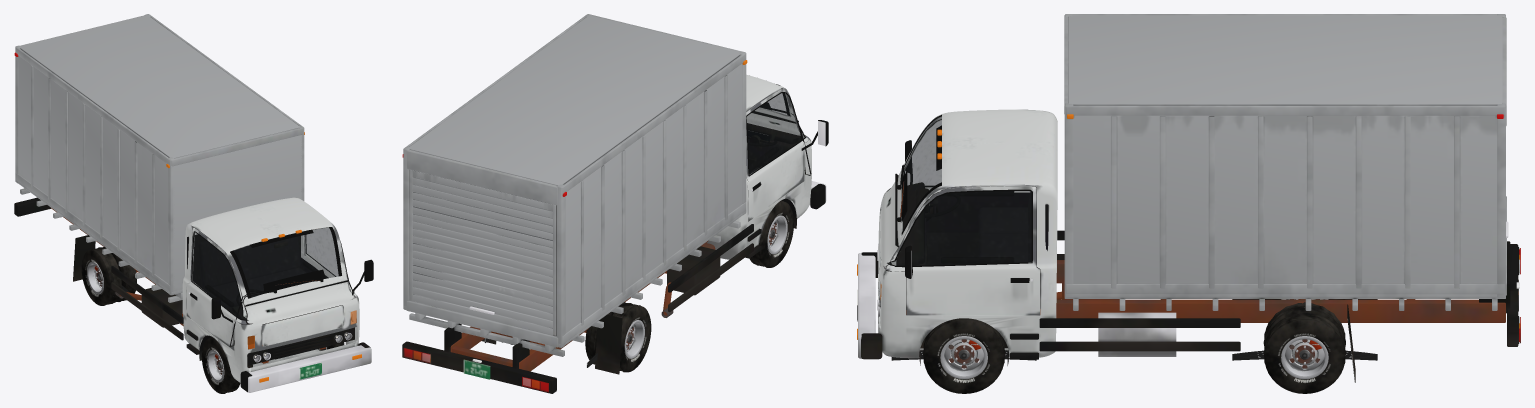
Rendered from kaiun.glb.
3 views of the same model, side by side, from view 1: azimuth 30°, elevation 25°; view 2: azimuth 150°, elevation 25°; view 3: azimuth 270°, elevation 25° (orthographic). The views are drawn at different scales.
Visible parts, largest first — view 1: Body, Glass_Windshield, Bumper_F, Door_FR, Glass_Door_FR, Wheel_RR, Hood, Wheel_FR, Glass_Door_FL, Door_FL; view 2: Body, Door_FR, Glass_Door_FR, Wheel_RR, Wheel_FR, Bumper_F; view 3: Body, Door_FL, Glass_Door_FL, Wheel_RL, Wheel_FL, Door_FR, Bumper_F, Glass_Windshield, Glass_Door_FR.
Part boxes in pixels (x1,y1,x2,y2): Body: (14, 14, 359, 382); Glass_Windshield: (234, 227, 338, 296); Bumper_F: (240, 342, 371, 392); Door_FR: (186, 228, 248, 350); Glass_Door_FR: (192, 233, 246, 320); Wheel_RR: (81, 246, 136, 305); Hood: (261, 305, 343, 346); Wheel_FR: (201, 337, 240, 393); Glass_Door_FL: (305, 228, 353, 294); Door_FL: (300, 235, 357, 320); Body: (402, 14, 811, 393); Door_FR: (746, 89, 809, 221); Glass_Door_FR: (747, 93, 804, 174); Wheel_RR: (585, 302, 651, 372); Wheel_FR: (750, 200, 793, 267); Bumper_F: (809, 181, 826, 209); Body: (877, 14, 1519, 382); Door_FL: (884, 186, 1040, 315); Glass_Door_FL: (889, 191, 1031, 265); Wheel_RL: (1263, 302, 1345, 393); Wheel_FL: (923, 318, 1005, 393); Door_FR: (885, 116, 1030, 232); Bumper_F: (857, 252, 882, 359); Glass_Windshield: (902, 116, 941, 231); Glass_Door_FR: (905, 120, 941, 186).
Size of what is drawn, in the model's own units: 2.35 by 2.92 by 5.94.
Materials: 2 (2 with a texture image).
